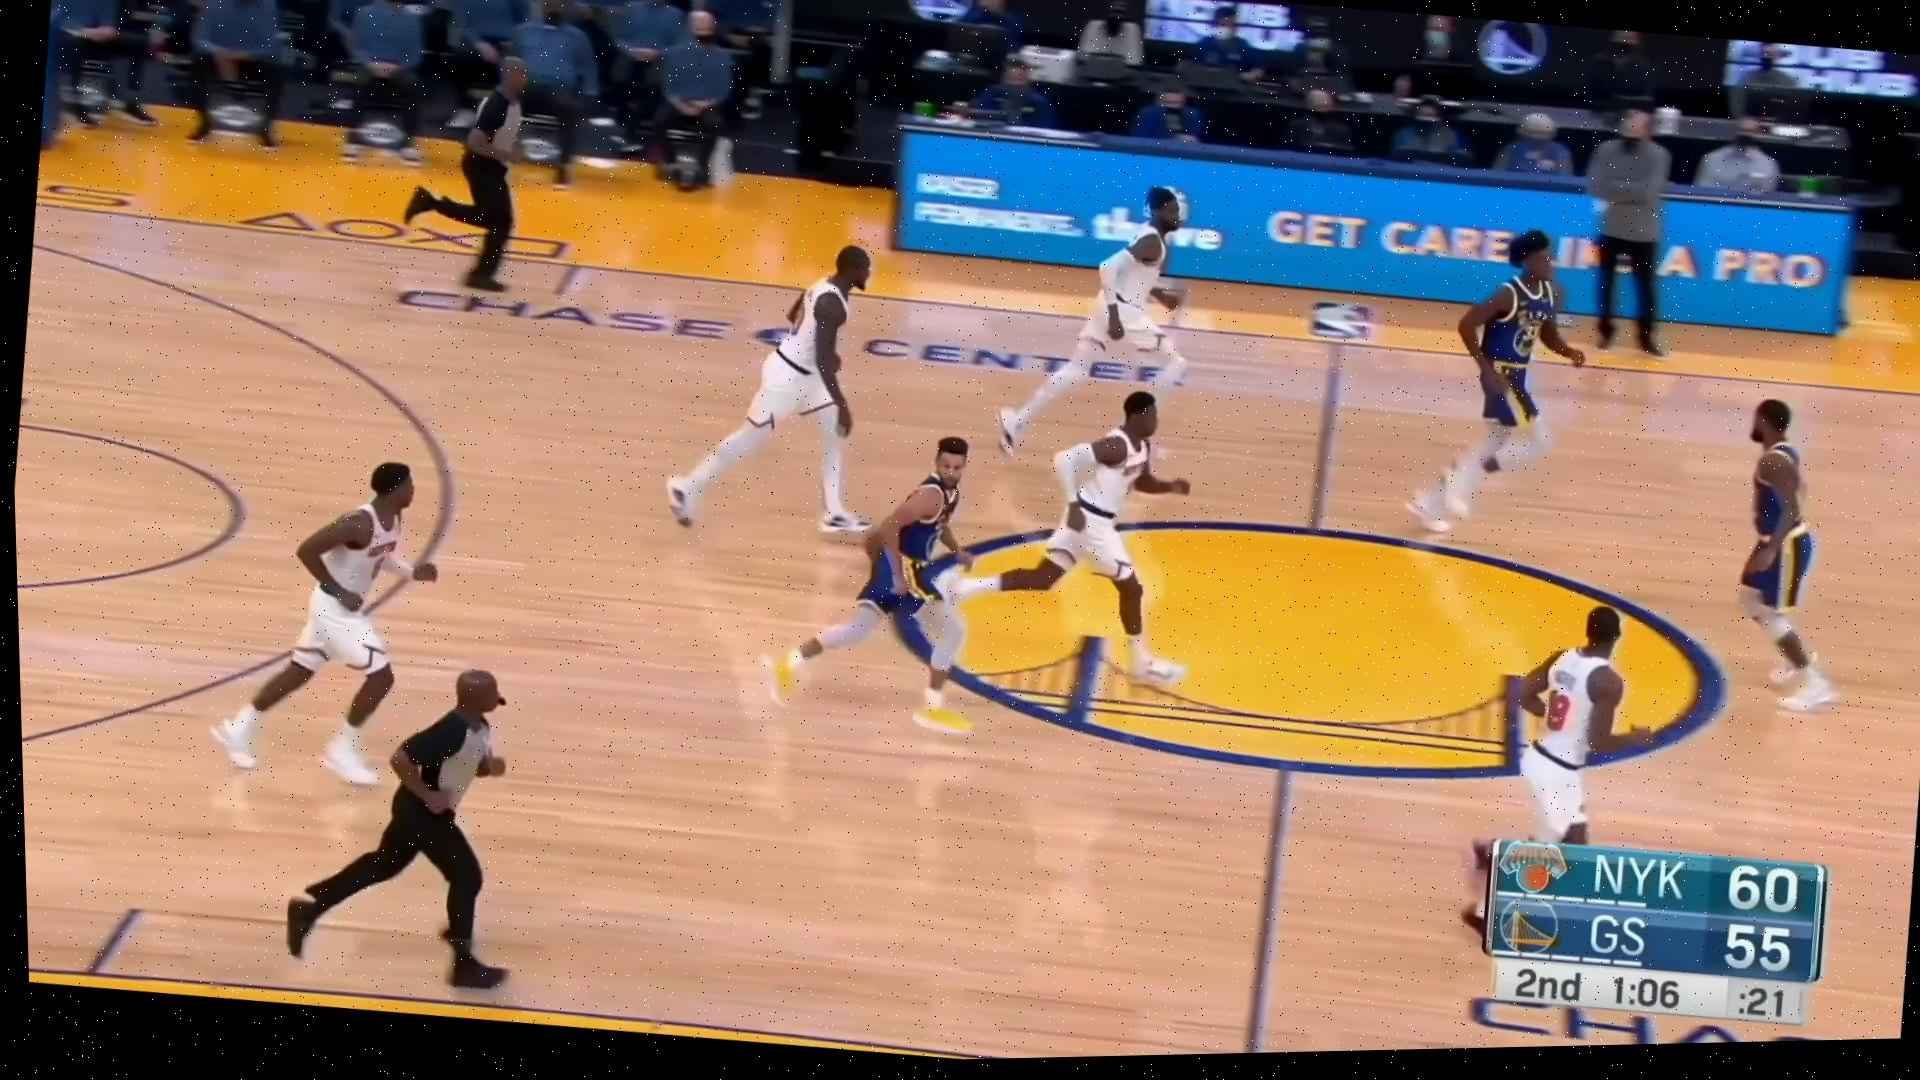no_foul: (670, 214, 913, 574)
